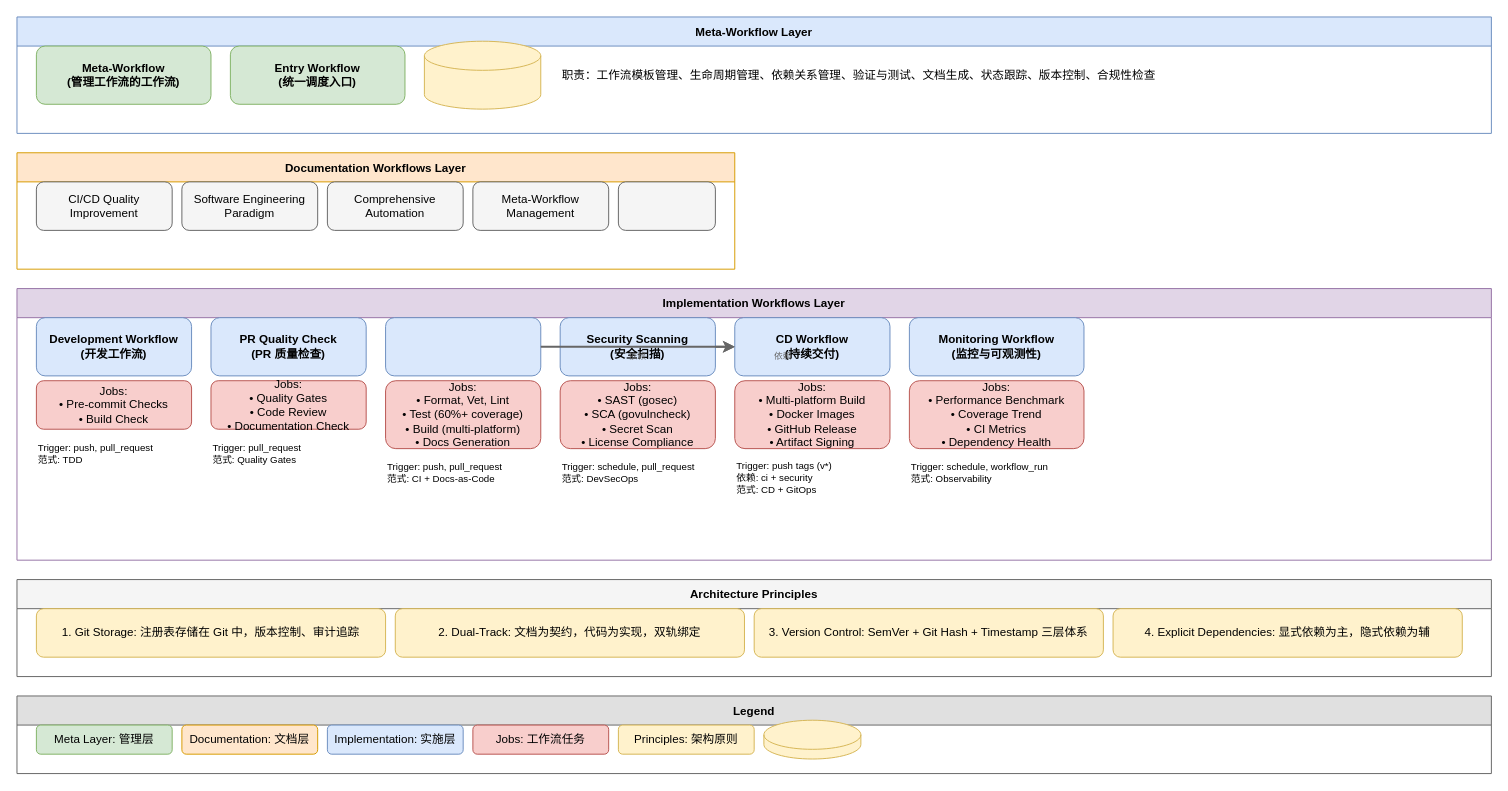
The diagram is 1508 pixels wide and 791 high, and some of its shapes have lost their labels. The centre of each missing label's shape, as x and y in pixels:
"CI Workflow (持续集成)" goes at point 463,346.
"Entry Point Workflow" goes at point 666,205.
"Registry: 注册表" goes at point 812,739.
"Workflow Registry (工作流注册表)" goes at point 482,74.
